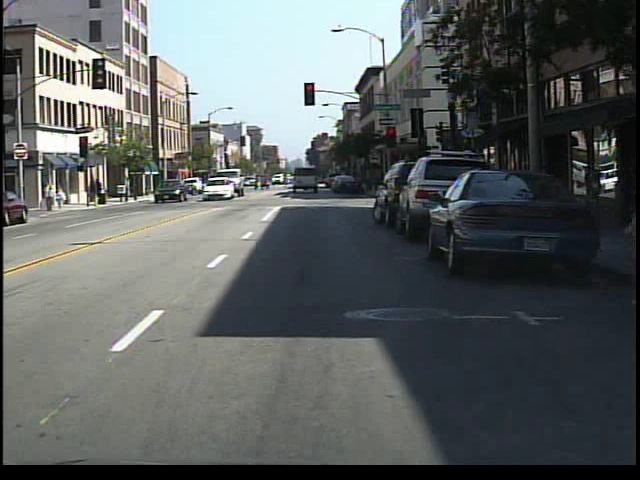person: (41, 179, 55, 215), (54, 182, 69, 210)
